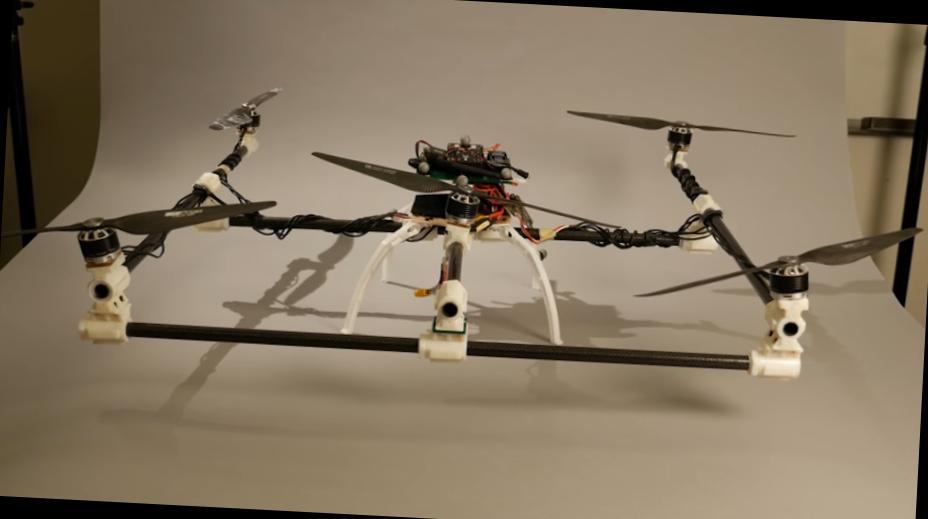drone: (56, 54, 928, 396)
